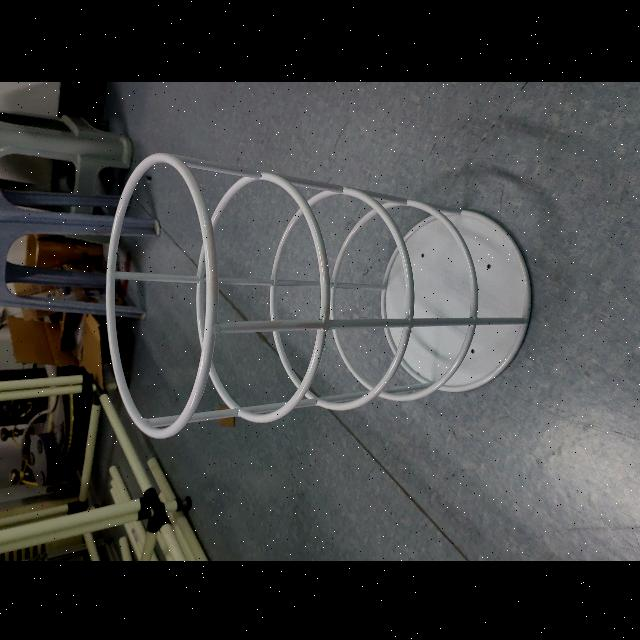S: (100, 148, 536, 440)
